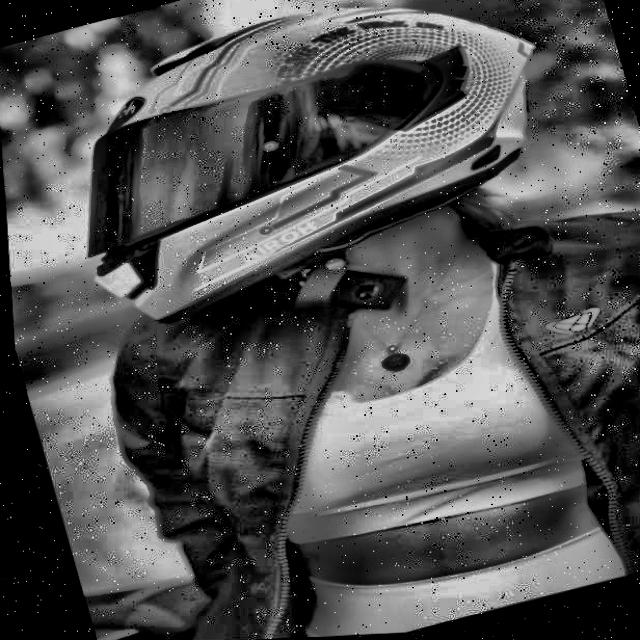Helmet: (14, 0, 591, 353)
